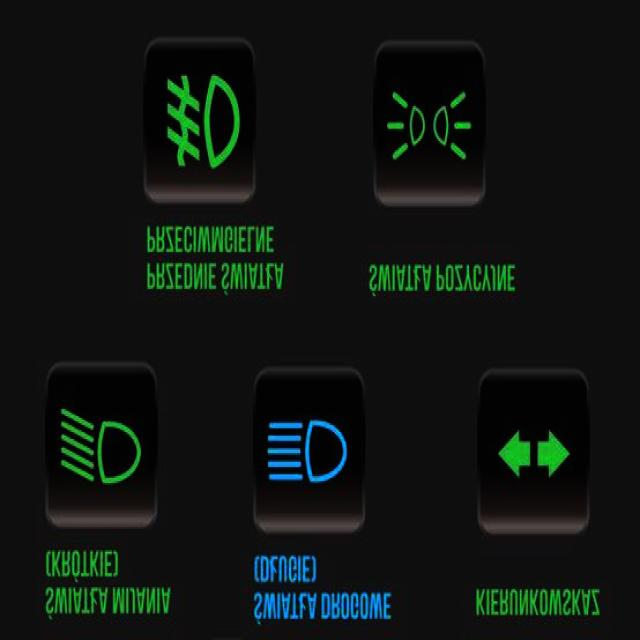kontrolka: (157, 58, 251, 183), (383, 73, 479, 179), (52, 398, 152, 498), (262, 402, 356, 492)
